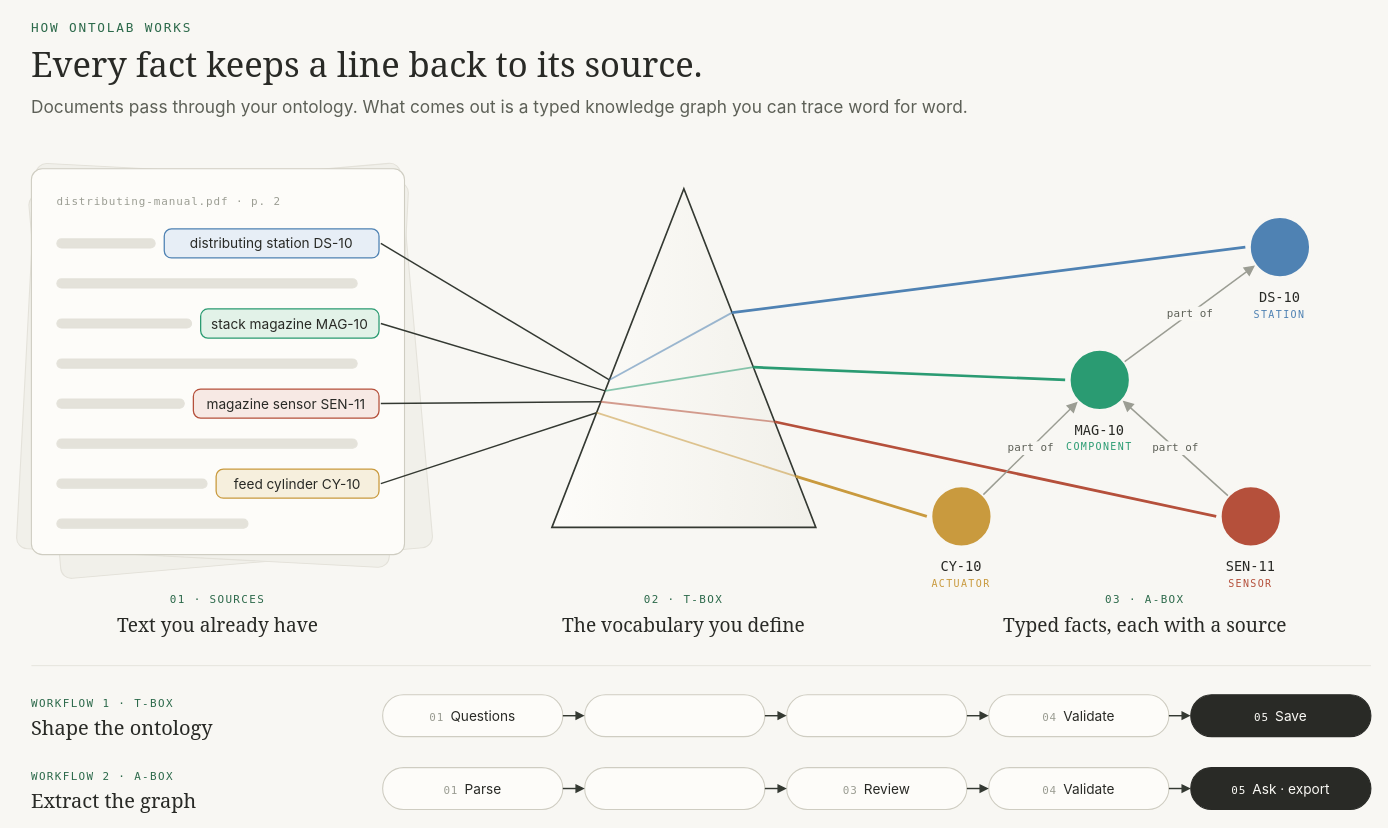
This 1388x828 diagram has some shape labels left out. The box of each missing label's shape, as (x1, y1, x2, y2) in pixels:
02 Draft: (584, 694, 765, 737)
02 Extract: (584, 767, 765, 810)
03 Edit & align: (786, 694, 967, 737)
Ontology T-BOX: (551, 188, 816, 528)
